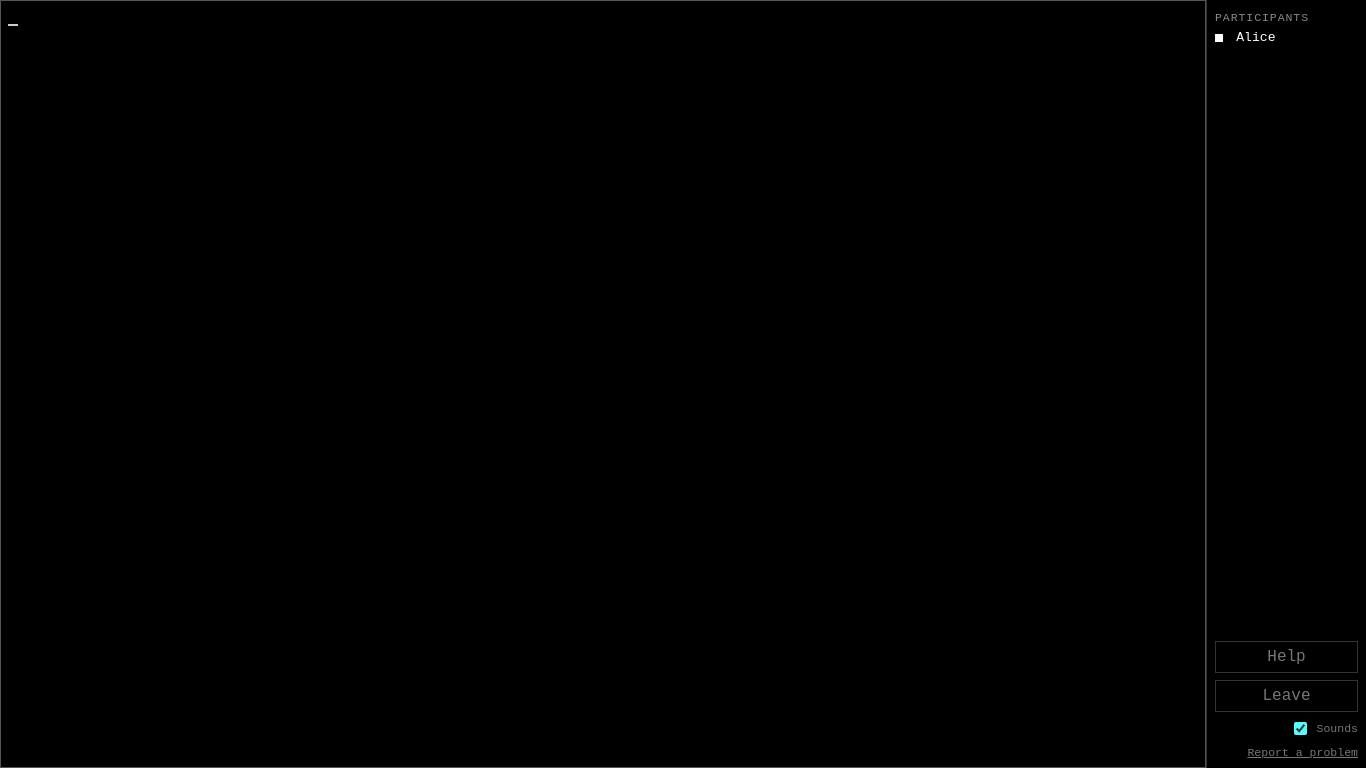
Test case: Roster › Help lists the commands and keys; Escape and Close dismiss it
Click the button "Help". click: coordinates (1286, 657)
box: left=1215, top=641, right=1358, bottom=673
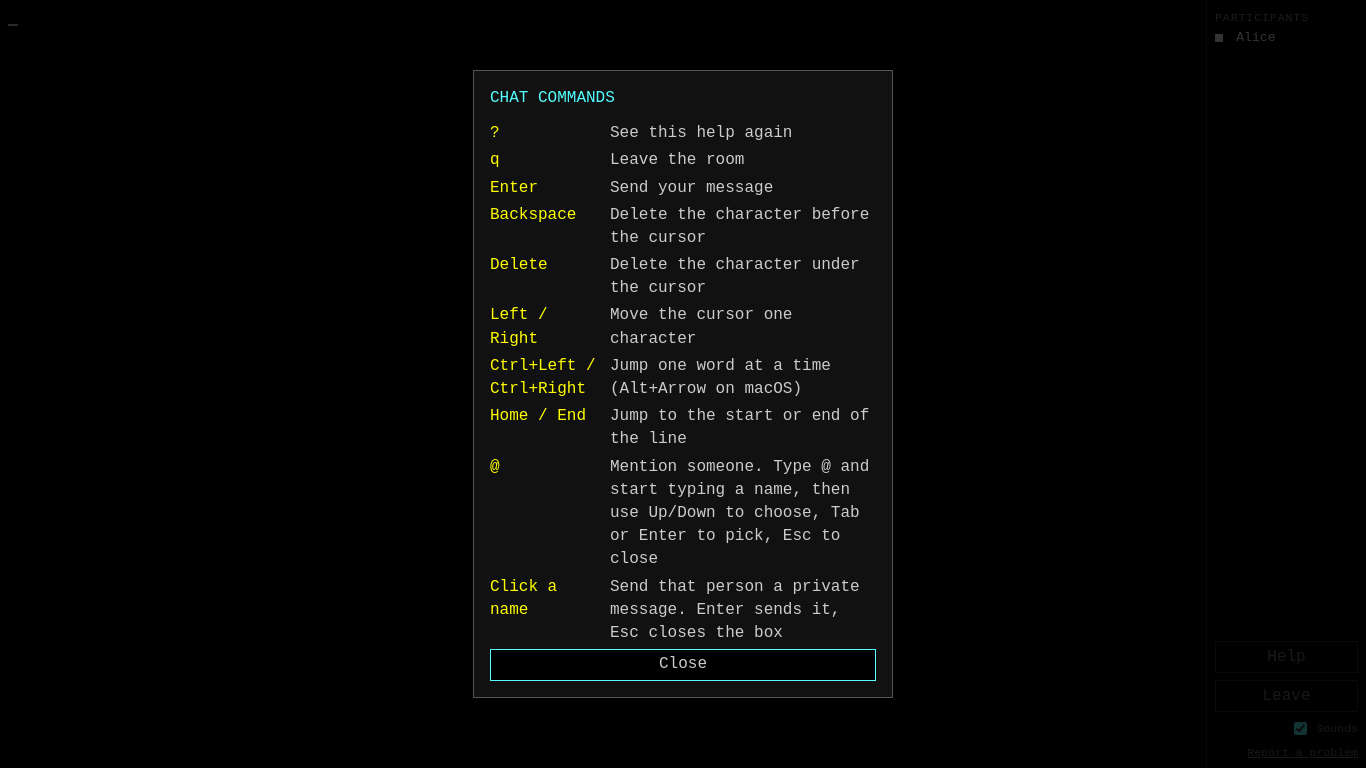
Now the text "CHAT COMMANDS" is shown, box left=490, top=89, right=615, bottom=107
Press Escape
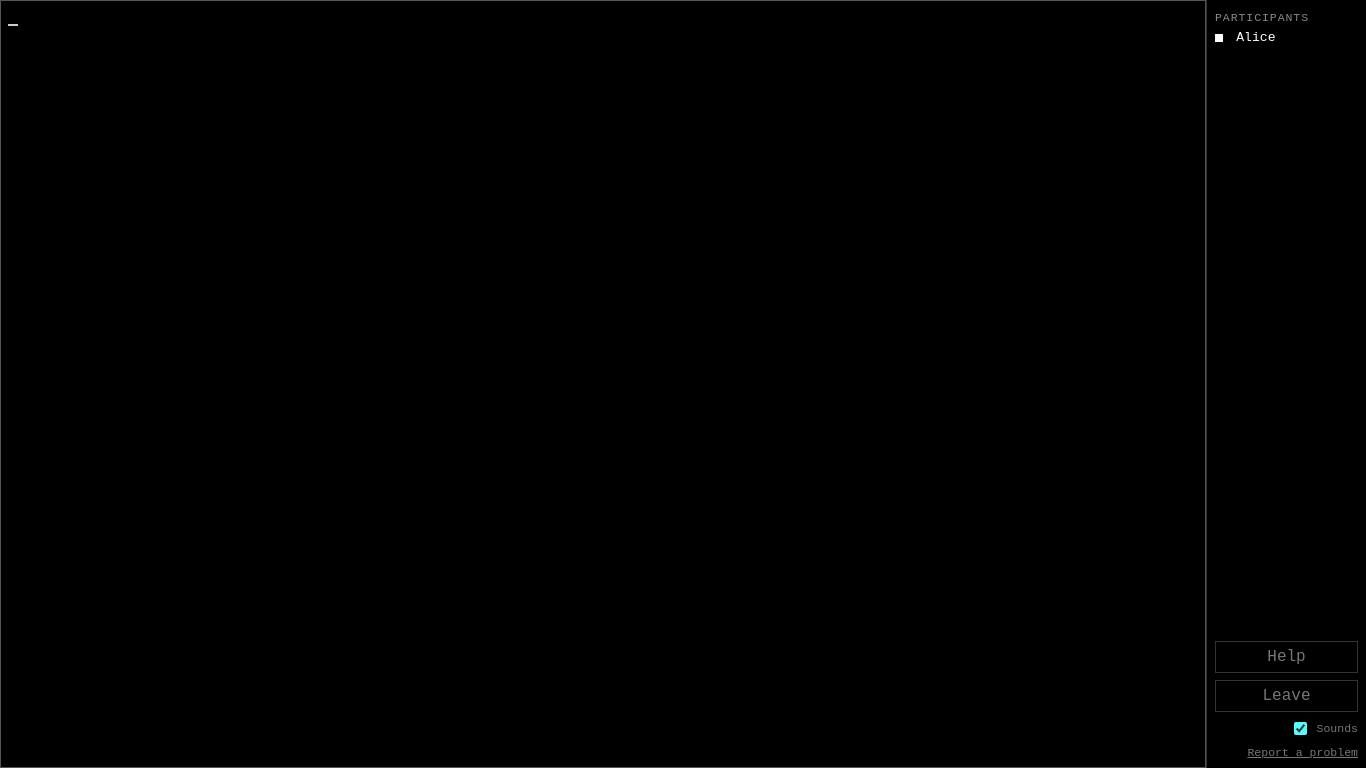
Now the text "CHAT COMMANDS" is gone
Click the button "Help". click: coordinates (1286, 657)
box: left=1215, top=641, right=1358, bottom=673
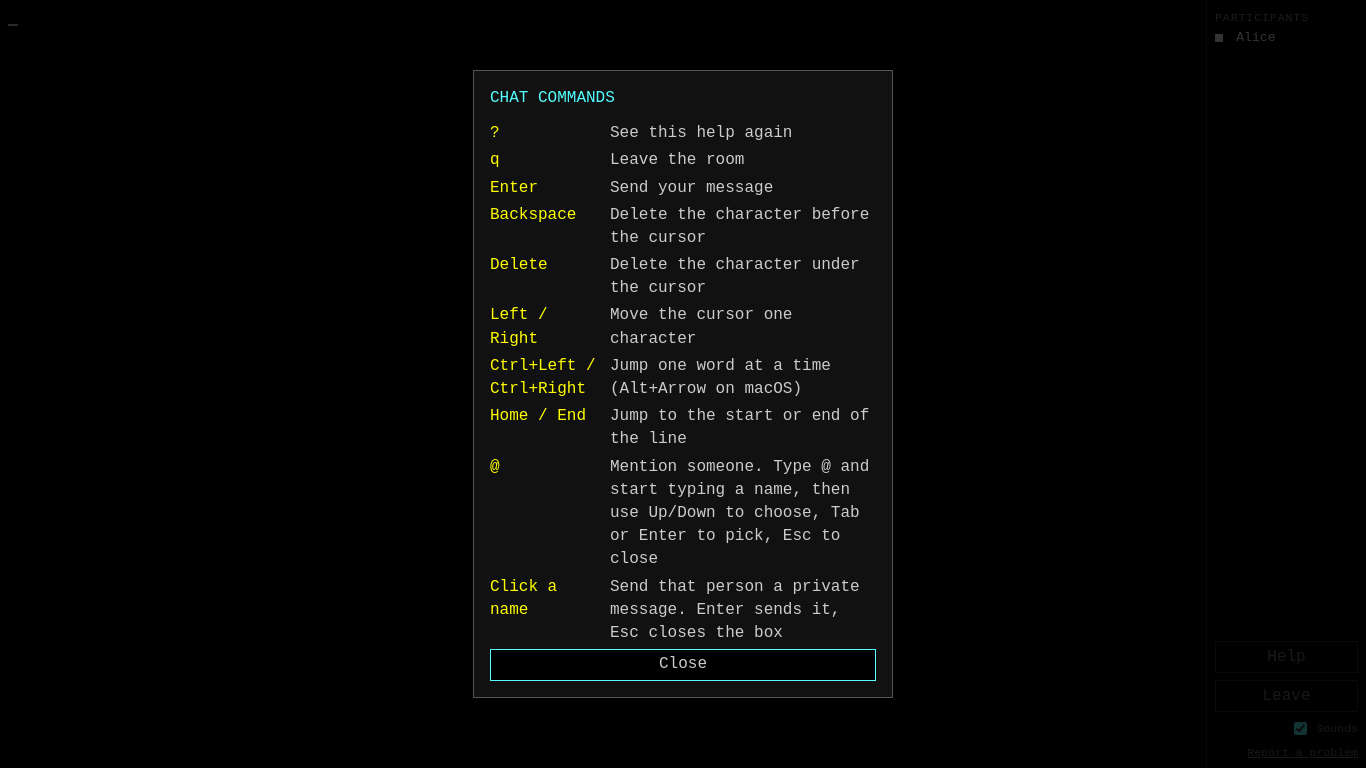
Now the text "CHAT COMMANDS" is shown, box left=490, top=89, right=615, bottom=107
Click the button "Close". click: coordinates (683, 665)
box: left=490, top=649, right=876, bottom=681
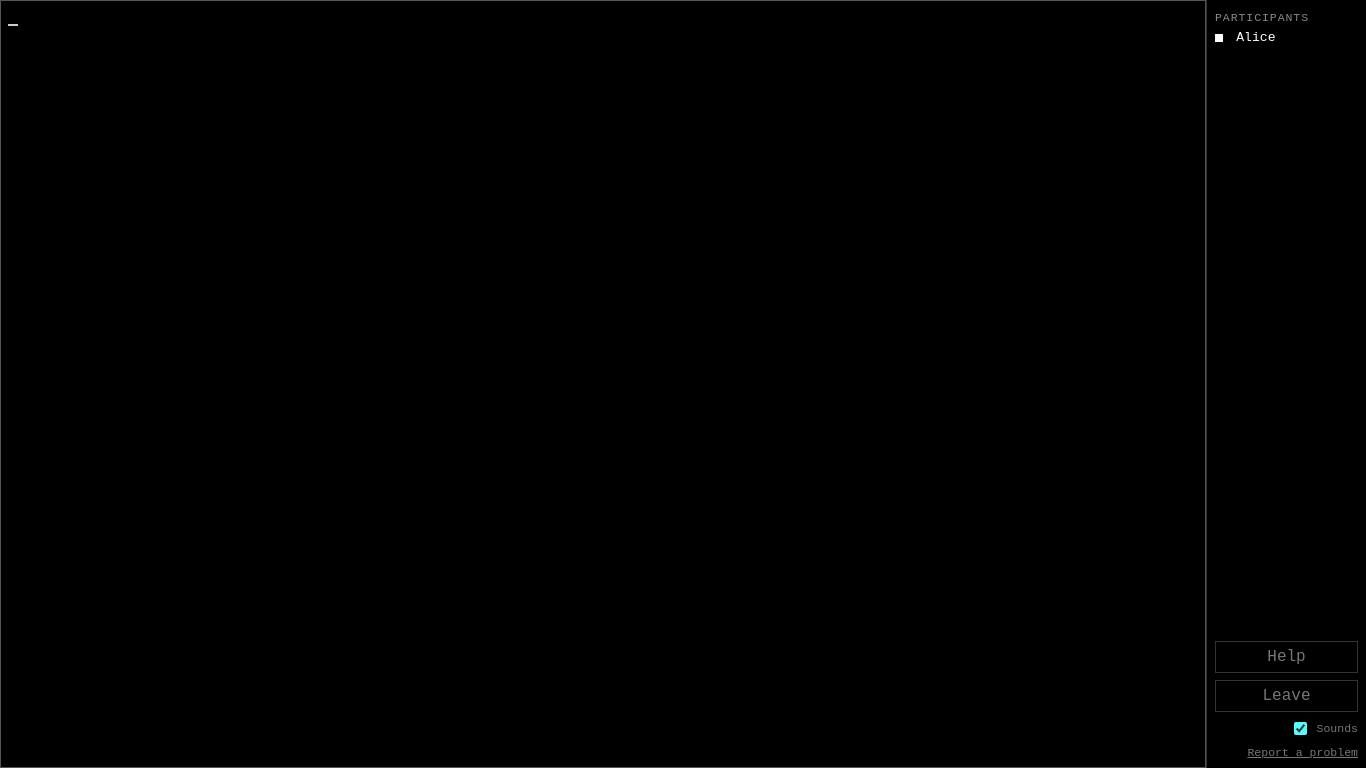
Now the text "CHAT COMMANDS" is gone
